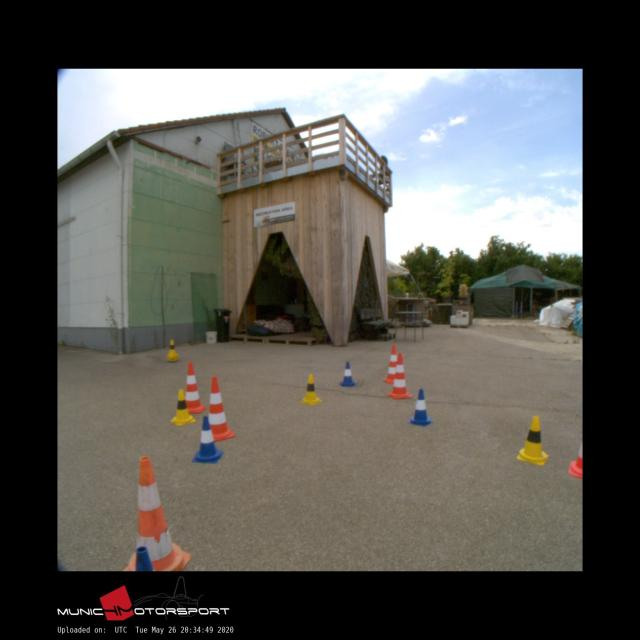blue_cone: (192, 417, 224, 462), (407, 388, 433, 425), (339, 361, 355, 386)
large_orange_cone: (122, 456, 192, 571), (205, 376, 235, 442), (181, 362, 206, 413), (388, 353, 412, 398), (383, 345, 401, 383)
yellow_cone: (517, 416, 548, 464), (170, 389, 196, 424), (301, 373, 321, 404), (167, 339, 177, 355)
